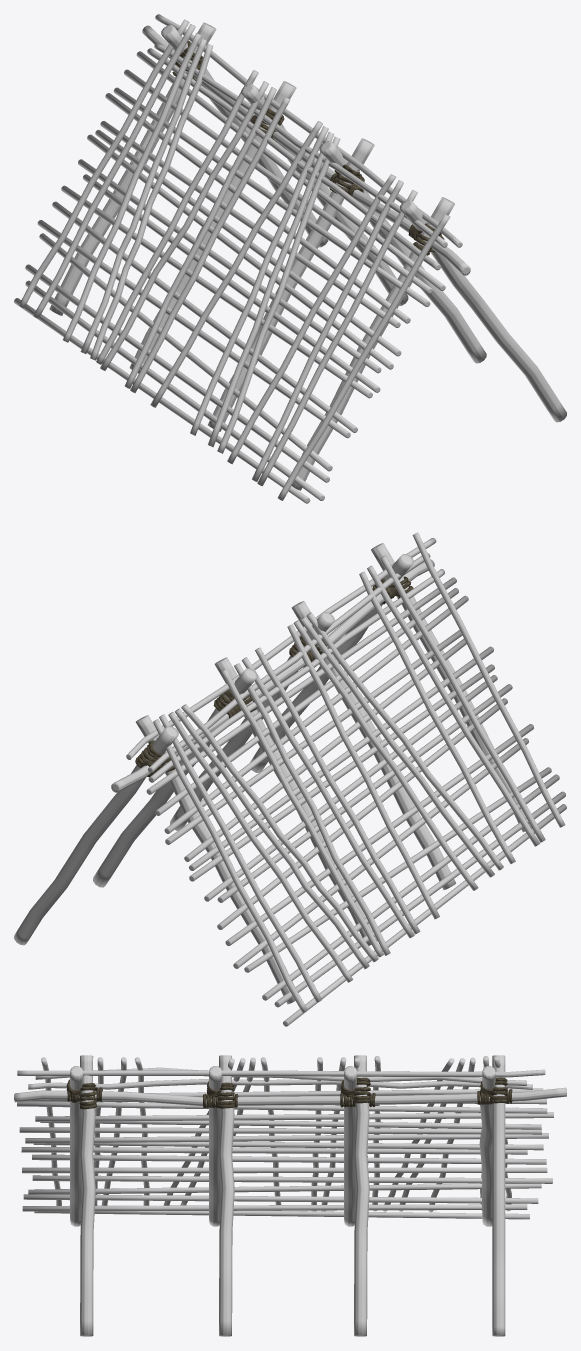
File: highpoly_viking_tent_008.obj
3 renders of one model, top to bottom at view 1: azimuth 30°, elevation 25°; view 2: azimuth 150°, elevation 25°; view 3: azimuth 270°, elevation 25°, orthographic. The views are drawn at different scales.
Visible parts, largest first — view 1: Cylinder.276, Cylinder.279, Cylinder.274, Cylinder.262, Cylinder.263, Cylinder.261, Cylinder.265, Cylinder.260, Cylinder.269, Cylinder.266, Cylinder.256, Cylinder.254 (+34 smaller); view 2: Cylinder.278, Cylinder.272, Cylinder.268, Cylinder.254, Cylinder.255, Cylinder.266, Cylinder.267, Cylinder.257, Cylinder.256, Cylinder.261, Cylinder.274, Cylinder.262 (+34 smaller); view 3: Cylinder.275, Cylinder.276, Cylinder.278, Cylinder.272, Cylinder.273, Cylinder.161, BezierCircle.286, Cylinder.247, Cylinder.231, Cylinder.229, Cylinder.246, Cylinder.230 (+28 smaller).
Boxes of the visible parts, x1,y1,x2,y2 form: Cylinder.276: [400, 199, 566, 422]; Cylinder.279: [49, 22, 216, 315]; Cylinder.274: [208, 138, 374, 431]; Cylinder.262: [80, 38, 206, 353]; Cylinder.263: [90, 43, 213, 360]; Cylinder.261: [63, 33, 201, 342]; Cylinder.265: [124, 87, 276, 388]; Cylinder.260: [190, 126, 328, 435]; Cylinder.269: [33, 24, 195, 318]; Cylinder.266: [130, 96, 290, 393]; Cylinder.256: [252, 180, 403, 481]; Cylinder.254: [277, 214, 450, 500]; Cylinder.278: [14, 726, 178, 945]; Cylinder.272: [93, 668, 257, 887]; Cylinder.268: [221, 669, 383, 957]; Cylinder.254: [412, 532, 565, 827]; Cylinder.255: [380, 555, 545, 842]; Cylinder.266: [255, 647, 420, 934]; Cylinder.267: [287, 624, 439, 919]; Cylinder.257: [359, 571, 515, 864]; Cylinder.256: [367, 565, 539, 846]; Cylinder.261: [168, 712, 352, 982]; Cylinder.274: [291, 601, 455, 889]; Cylinder.262: [175, 708, 369, 969]; Cylinder.275: [14, 1087, 566, 1105]; Cylinder.276: [80, 1055, 95, 1336]; Cylinder.278: [492, 1055, 505, 1336]; Cylinder.272: [354, 1055, 369, 1336]; Cylinder.273: [218, 1055, 234, 1336]; Cylinder.161: [17, 1069, 545, 1077]; BezierCircle.286: [66, 1077, 512, 1109]; Cylinder.247: [22, 1167, 547, 1173]; Cylinder.231: [19, 1127, 541, 1134]; Cylinder.229: [32, 1154, 546, 1164]; Cylinder.246: [32, 1175, 552, 1183]; Cylinder.230: [25, 1133, 548, 1143].
Bounding box in the file's own units: 4.89 × 4.03 × 8.93.
